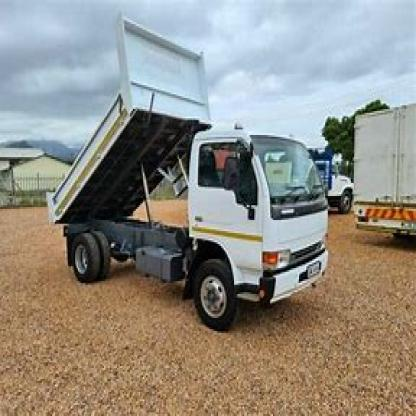dump_truck: (30, 9, 334, 337)
